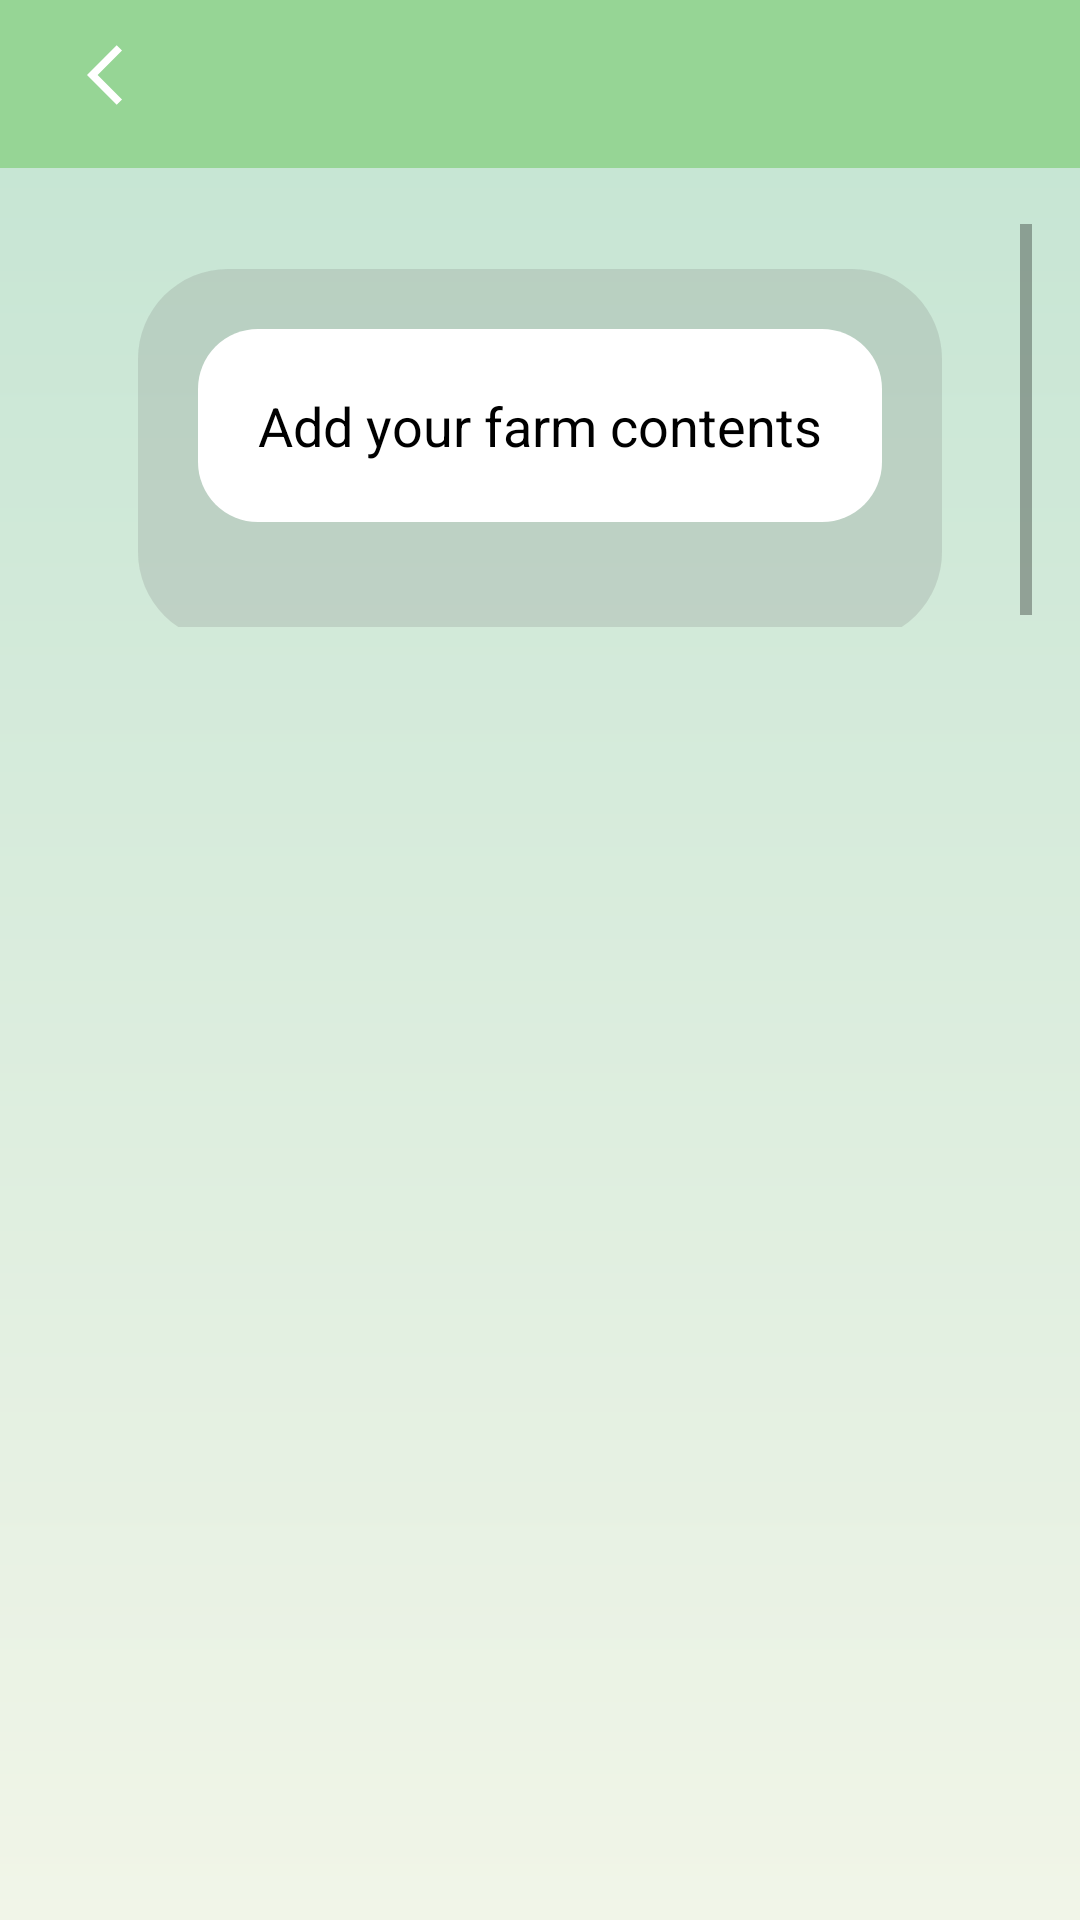

Icon click points for this 1080px×1920px phone screenshot, format (x=x, y=y):
backbtn: (x=104, y=75)
